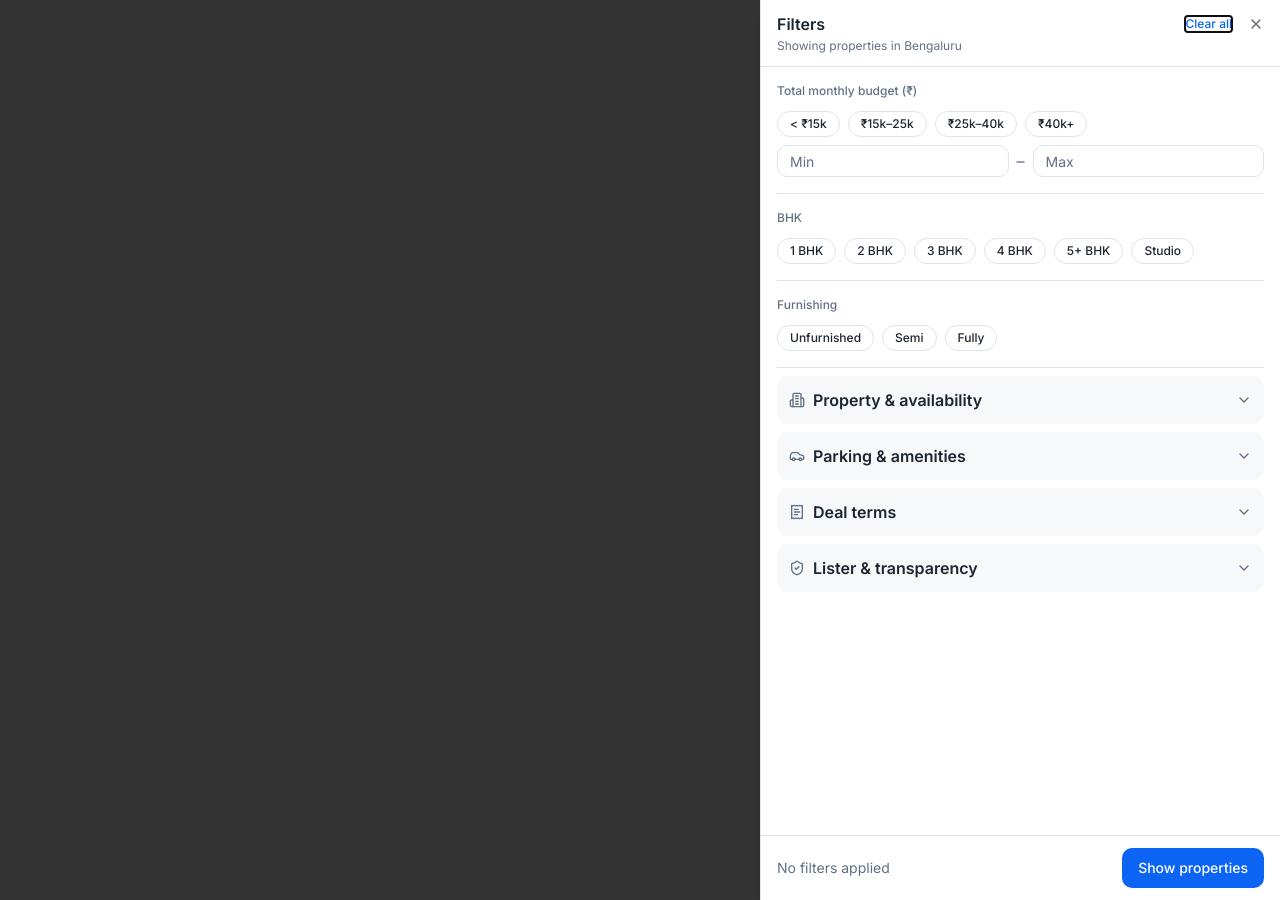
Test case: Rent/Buy visibility › shows Pets section in rent, not in buy (Deal terms group)
This screenshot has width=1280, height=900.
Click the button "Deal terms": coordinates (855, 512) left=777, top=488, right=1264, bottom=536
(page scrolled)
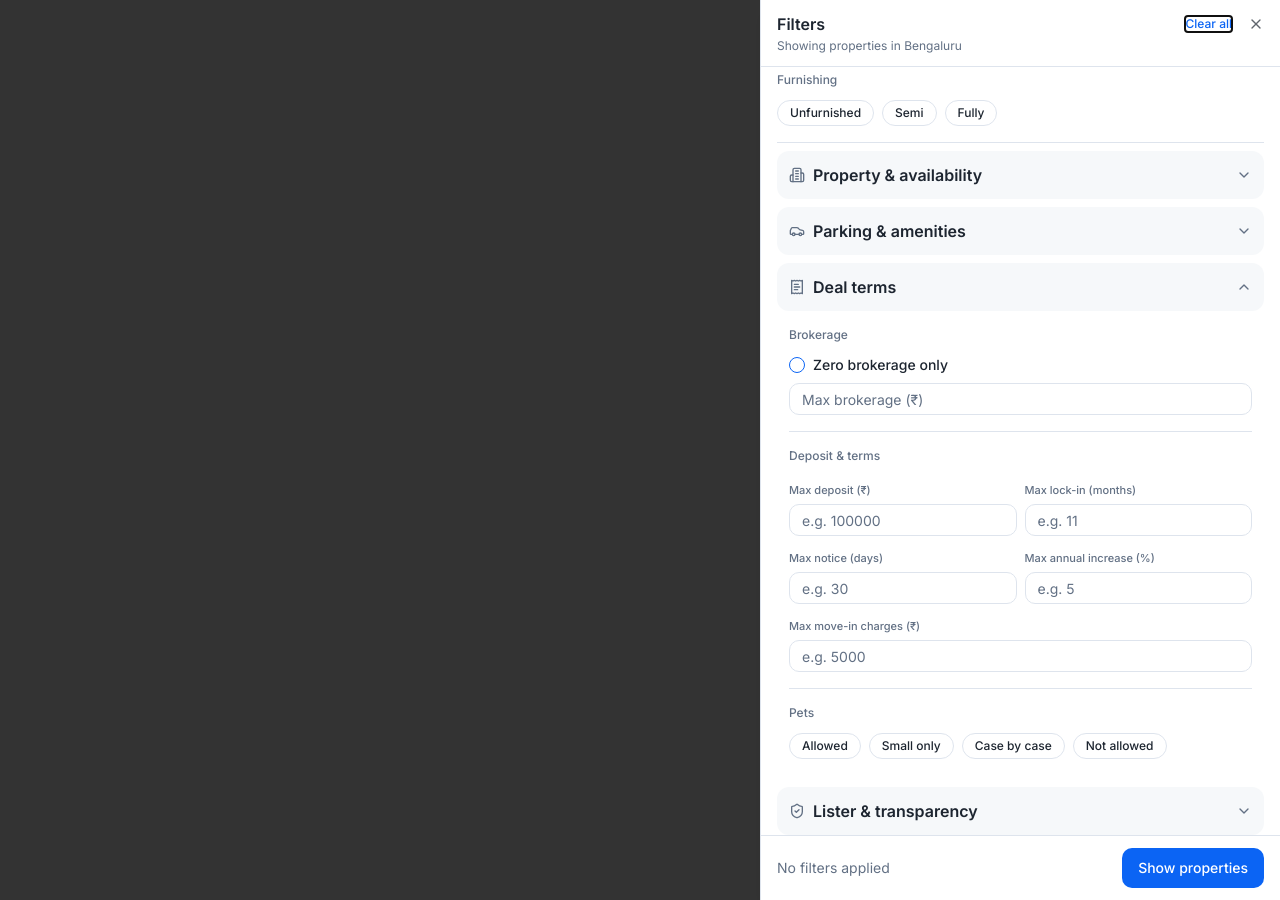
Expected: the heading "Pets" is shown, left=789, top=705, right=814, bottom=721
